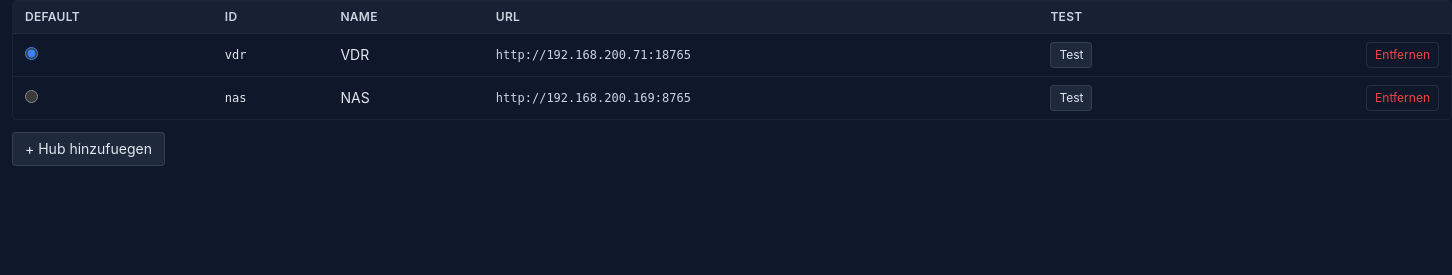
Test case: HubListEditor › zeigt Add-Form, validiert Pflichtfelder + URL
What coordinates should you click on to do the following:
click the button "+ Hub hinzufuegen"
I would click on:
 (88, 149)
Its box is [12,132,165,166].
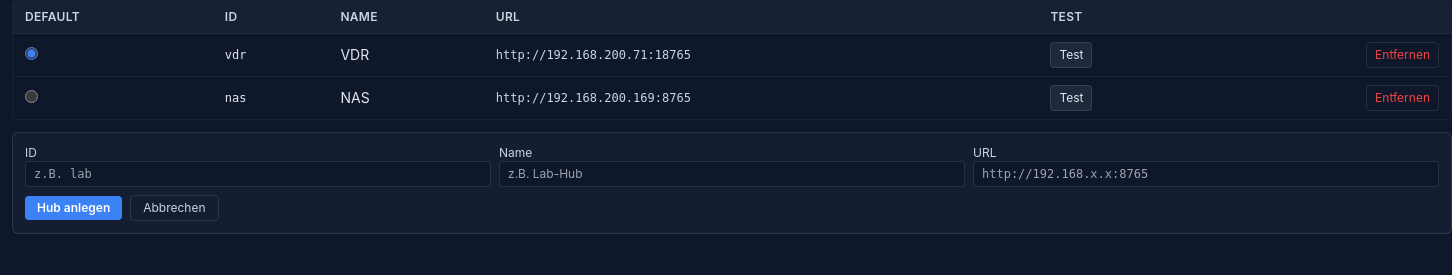
Result: the element with test id "hub-add-form" is shown at [12,132,1451,234]
What coordinates should you click on to do the following:
click the button "Hub anlegen"
I would click on:
 (74, 208)
Its box is [25,196,122,220].
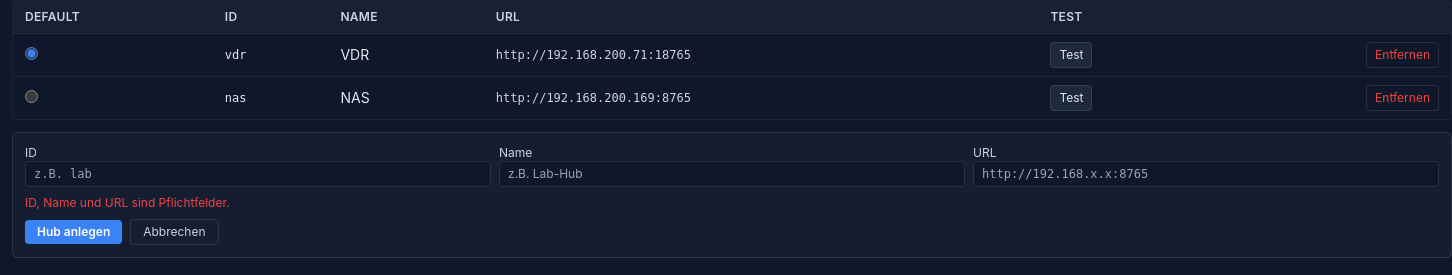
Result: the message with test id "hub-add-error" shows "Pflichtfelder" at [25,195,230,210]
